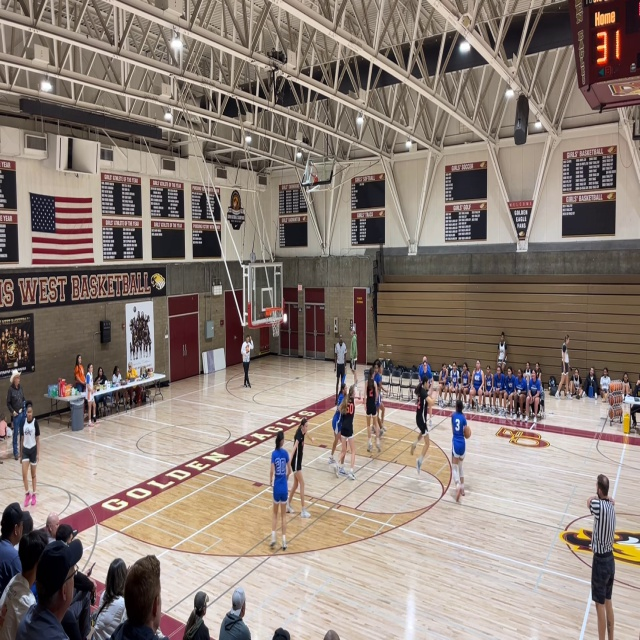Basketball: (463, 426, 471, 438)
